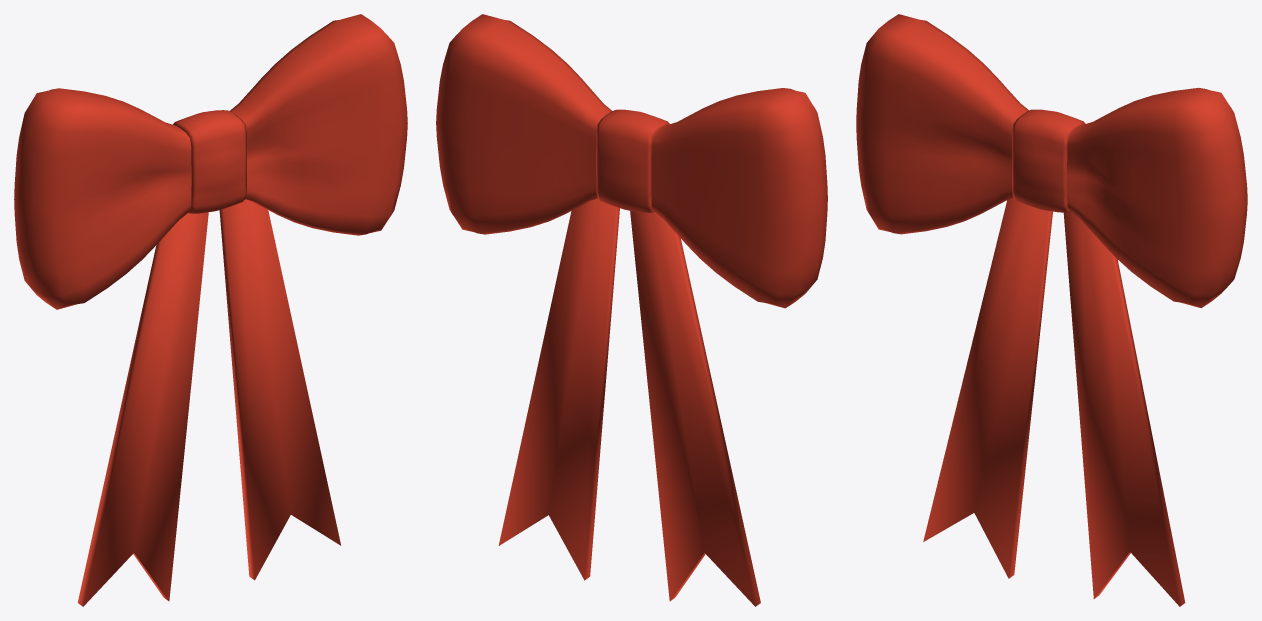
File: bow.fbx
The picture shows the model from 3 angles, left to right: view 1: azimuth 30°, elevation 25°; view 2: azimuth 150°, elevation 25°; view 3: azimuth 330°, elevation 25°; orthographic projection.
Visible parts, largest first — view 1: bow; view 2: bow; view 3: bow.
Part boxes in pixels (x1,y1,x2,y2): bow: (14, 14, 407, 606); bow: (436, 14, 827, 606); bow: (856, 14, 1247, 606).
Bounding box in the file's own units: 0.5007 × 0.6628 × 0.0856.
